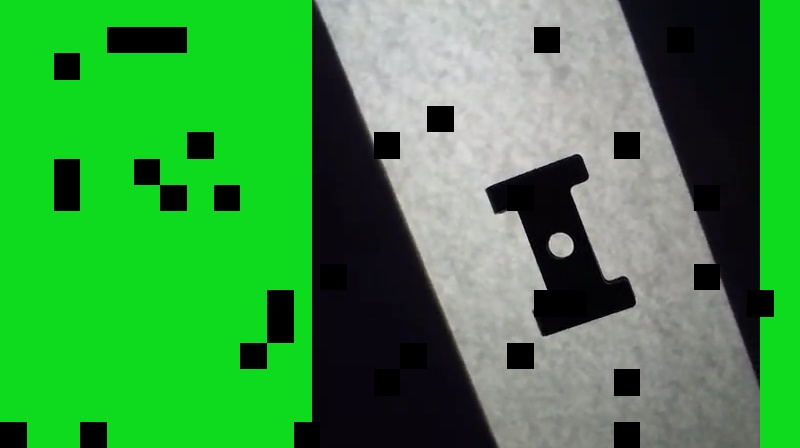O002: (483, 149, 638, 336)
